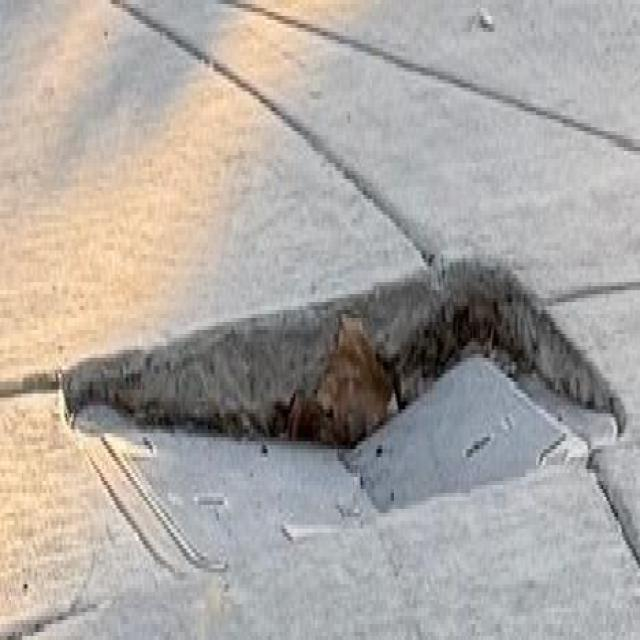hole: (54, 237, 630, 586)
